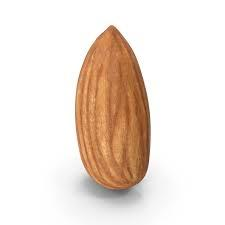non-mango: (74, 24, 151, 190)
